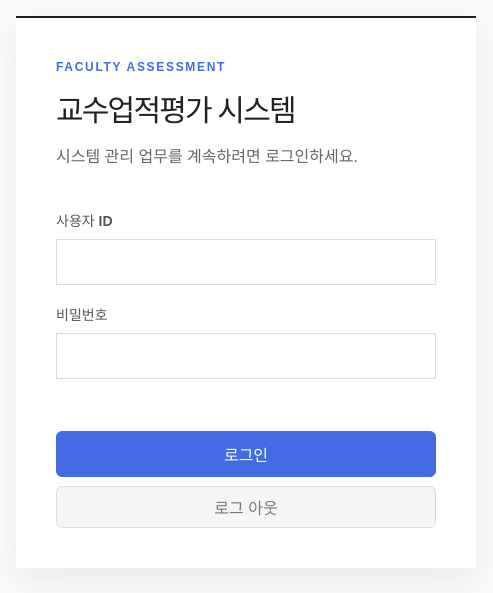
로그인 진입 › 로그인 화면에 자격 증명 입력, 로그인·로그아웃 제어 및 오류 영역을 표시하고 인증 오류를 안내한다
Expected: the field labelled "사용자 ID" is shown, [56,239,436,285]
Expected: the password field labelled "비밀번호" is shown, [56,333,436,379]
Click the button with test id "auth-login-button". click: (246, 454)
box: [56,431,436,477]
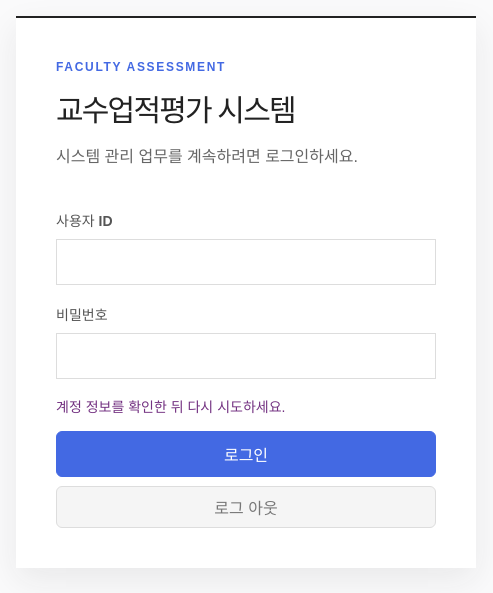
Result: the text "계정 정보를 확인한 뒤 다시 시도하세요." is shown at [56,399,285,415]
